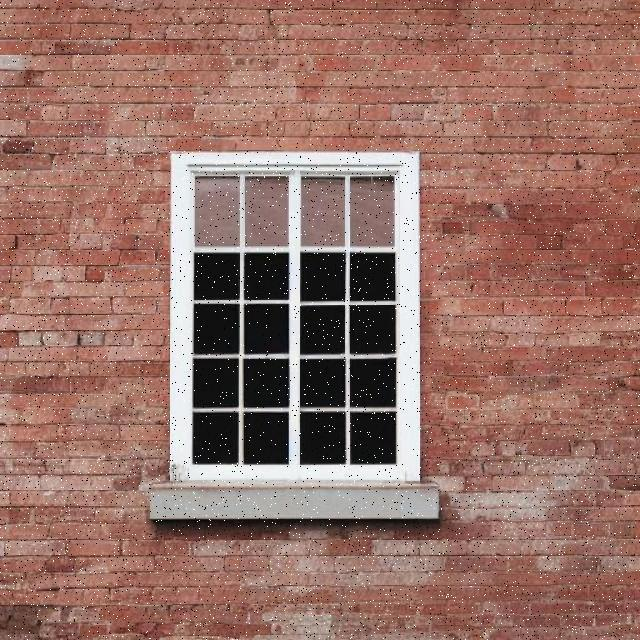window: (170, 153, 418, 480)
